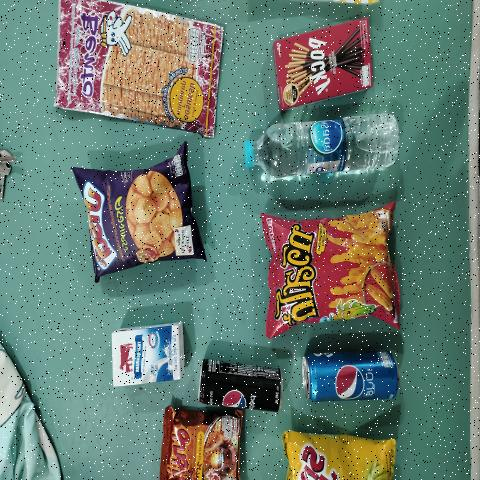bento_red: (56, 13, 228, 115)
crystal: (242, 101, 401, 191)
mama: (170, 412, 238, 480)
party_purple: (86, 158, 186, 268)
pepsi_black: (199, 366, 280, 406)
pepsi_blue: (300, 347, 393, 406)
pokki: (274, 9, 374, 107)
thai_denmark: (109, 325, 186, 389)
twisco: (270, 212, 388, 331)
